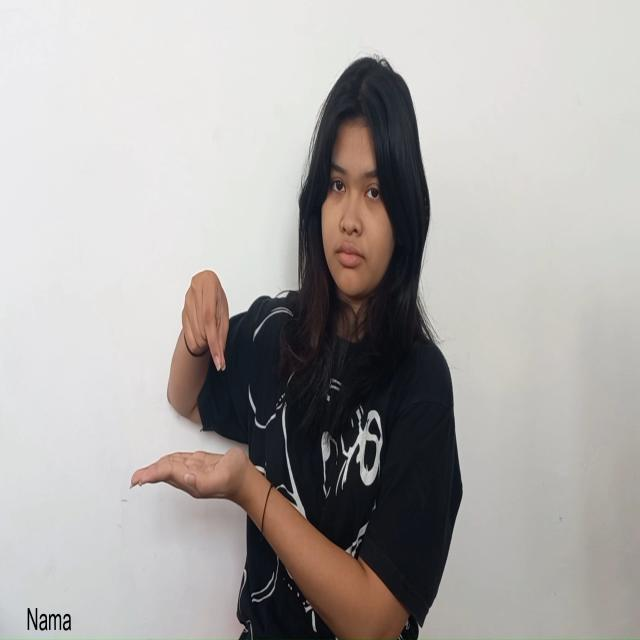Nama -BISINDO-: (130, 270, 248, 508)
